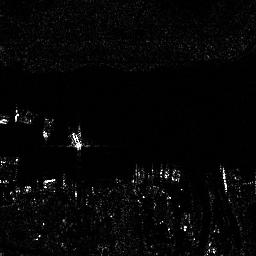ship: (70, 132, 82, 149), (222, 166, 229, 192)
